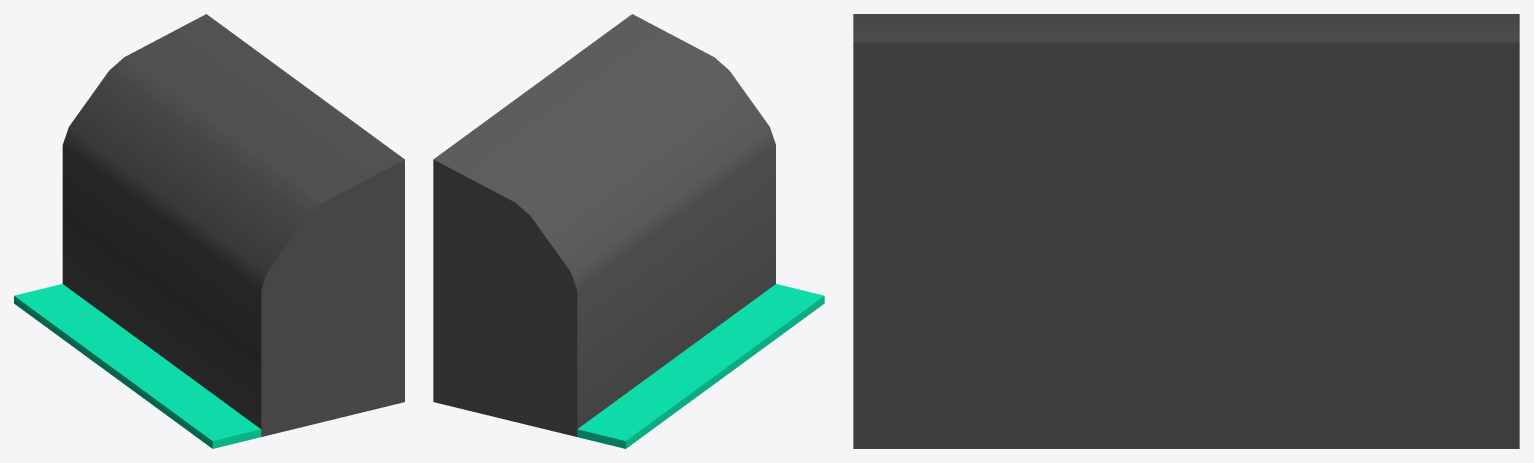
File: CorridorWallOutPillarDown_01.fbx
3 renders of one model, left to right at view 1: azimuth 30°, elevation 25°; view 2: azimuth 150°, elevation 25°; view 3: azimuth 270°, elevation 25°, orthographic. The views are drawn at different scales.
Visible parts, largest first — view 1: CorridorWallOutPillarDown_01; view 2: CorridorWallOutPillarDown_01; view 3: CorridorWallOutPillarDown_01.
Part boxes in pixels (x1=…): CorridorWallOutPillarDown_01: x1=14, y1=14, x2=404, y2=448; CorridorWallOutPillarDown_01: x1=433, y1=14, x2=824, y2=448; CorridorWallOutPillarDown_01: x1=853, y1=14, x2=1519, y2=448.
Bounding box in the file's own units: 32.88 × 58.81 × 39.61.
